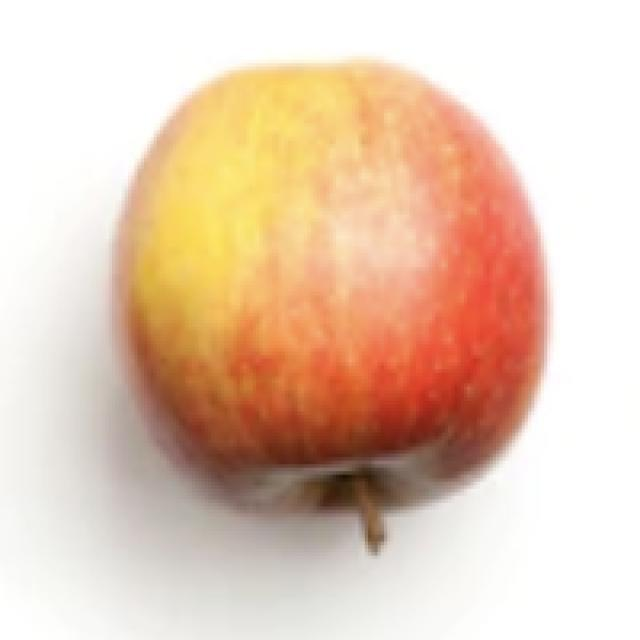Fresh Apple: (127, 65, 548, 523)
